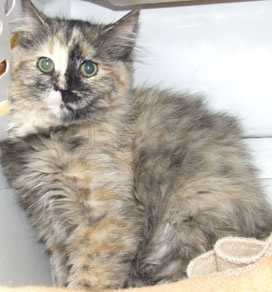Cat: (0, 0, 271, 286), (9, 0, 139, 131)
